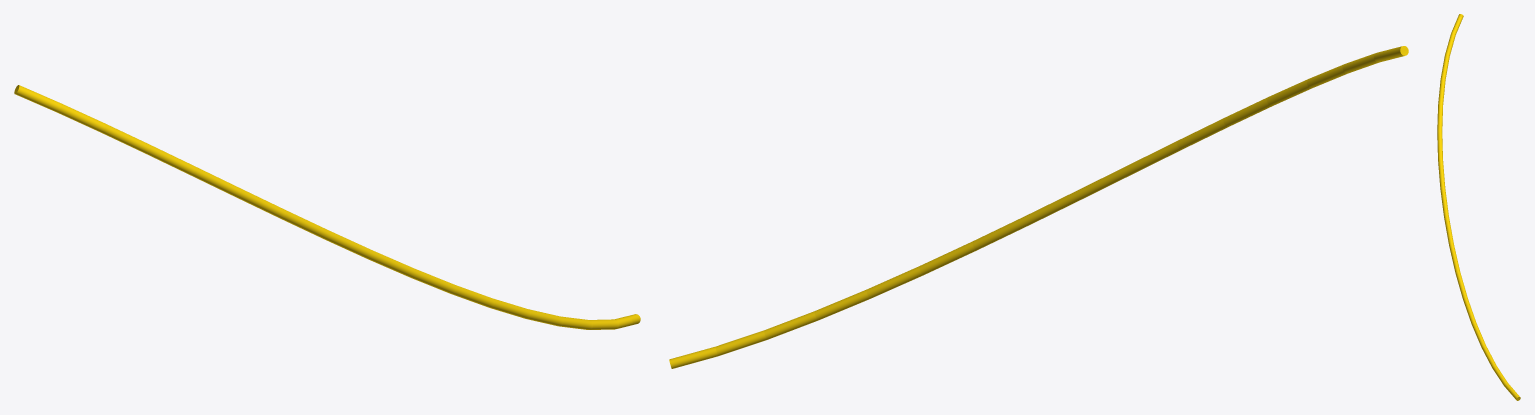
File: Event_421278790_track_4.fbx
3 renders of one model, left to right at view 1: azimuth 30°, elevation 25°; view 2: azimuth 150°, elevation 25°; view 3: azimuth 270°, elevation 25°, orthographic. The views are drawn at different scales.
Parts seen in each view (by area): view 1: Model; view 2: Model; view 3: Model.
Part boxes in pixels (x1,y1,x2,y2): Model: (14,85,640,329); Model: (669,46,1408,368); Model: (1437,14,1520,400).
Bounding box in the file's own units: 3.11 × 1.94 × 0.6596.
